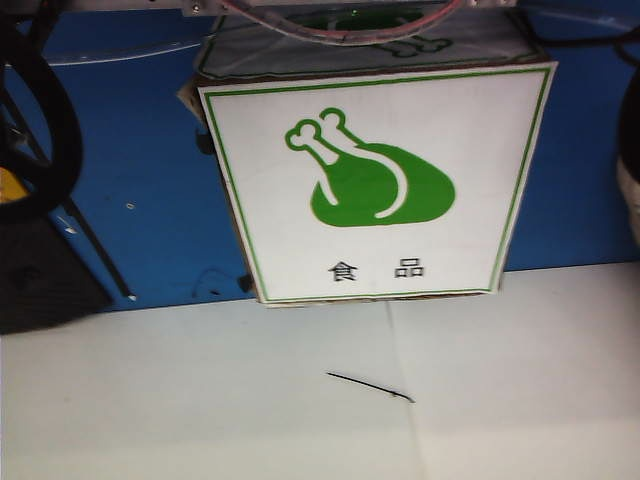Cube_food: (272, 100, 472, 290)
